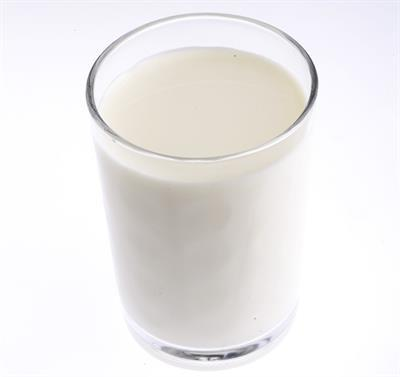produk_susu: (128, 35, 276, 355)
